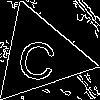C: (15, 30, 61, 82)
